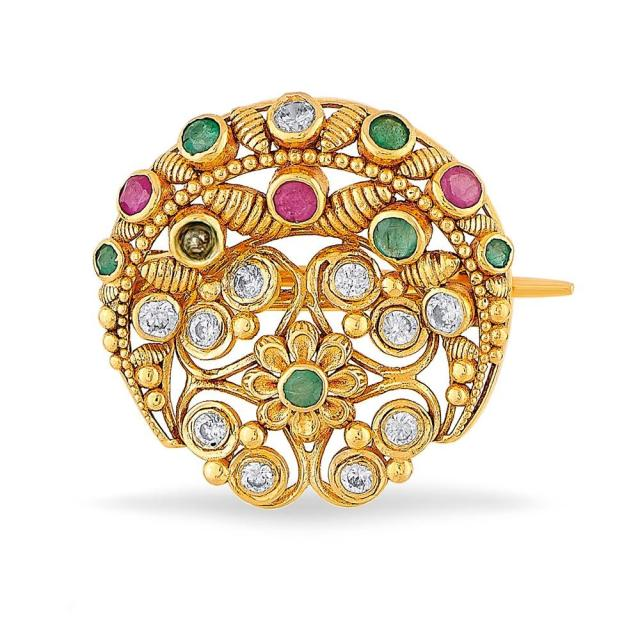missing gem: (175, 221, 219, 263)
